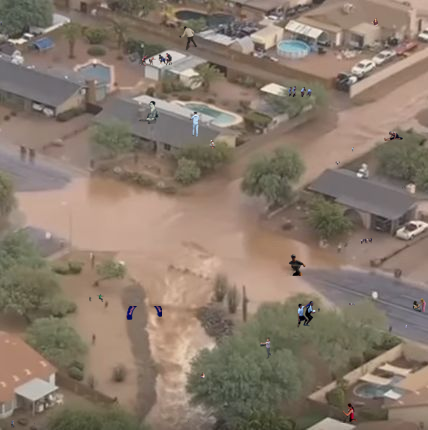Human: (331, 403, 358, 423), (297, 301, 316, 328), (138, 101, 160, 124), (126, 306, 162, 320), (179, 26, 198, 52), (139, 53, 172, 67), (285, 254, 306, 276), (259, 337, 273, 359), (189, 112, 200, 137), (288, 86, 312, 97), (10, 419, 35, 429), (384, 130, 403, 141), (412, 298, 426, 312), (88, 294, 105, 302), (358, 238, 372, 244), (371, 18, 380, 27), (104, 300, 109, 311), (209, 140, 215, 149), (92, 333, 96, 344), (199, 372, 205, 378), (335, 161, 340, 165), (349, 303, 355, 306), (186, 417, 189, 422), (35, 272, 37, 278), (402, 186, 406, 189), (318, 308, 321, 312), (405, 324, 407, 329), (352, 147, 354, 152), (0, 21, 2, 26), (293, 11, 295, 16), (143, 4, 145, 9)
